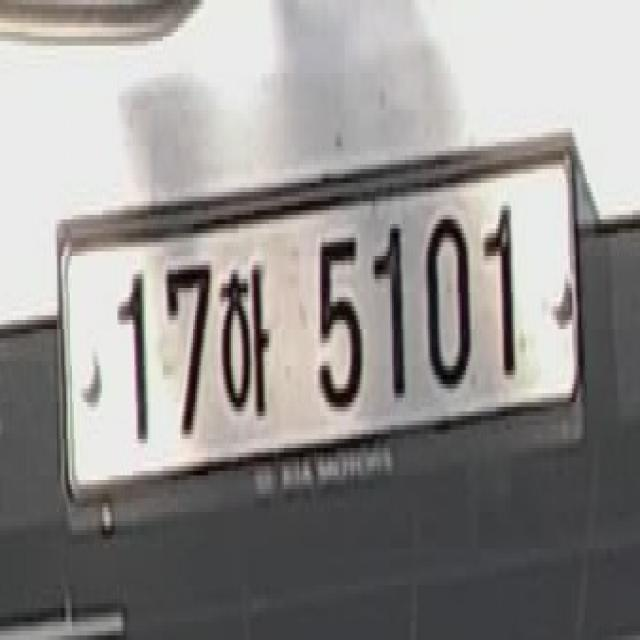0: (416, 197, 483, 420)
1: (478, 192, 526, 389), (371, 201, 409, 434), (115, 242, 154, 462)
5: (311, 215, 369, 430)
7: (161, 247, 216, 452)
ha: (218, 247, 278, 443)
license_plate: (49, 123, 591, 540)
